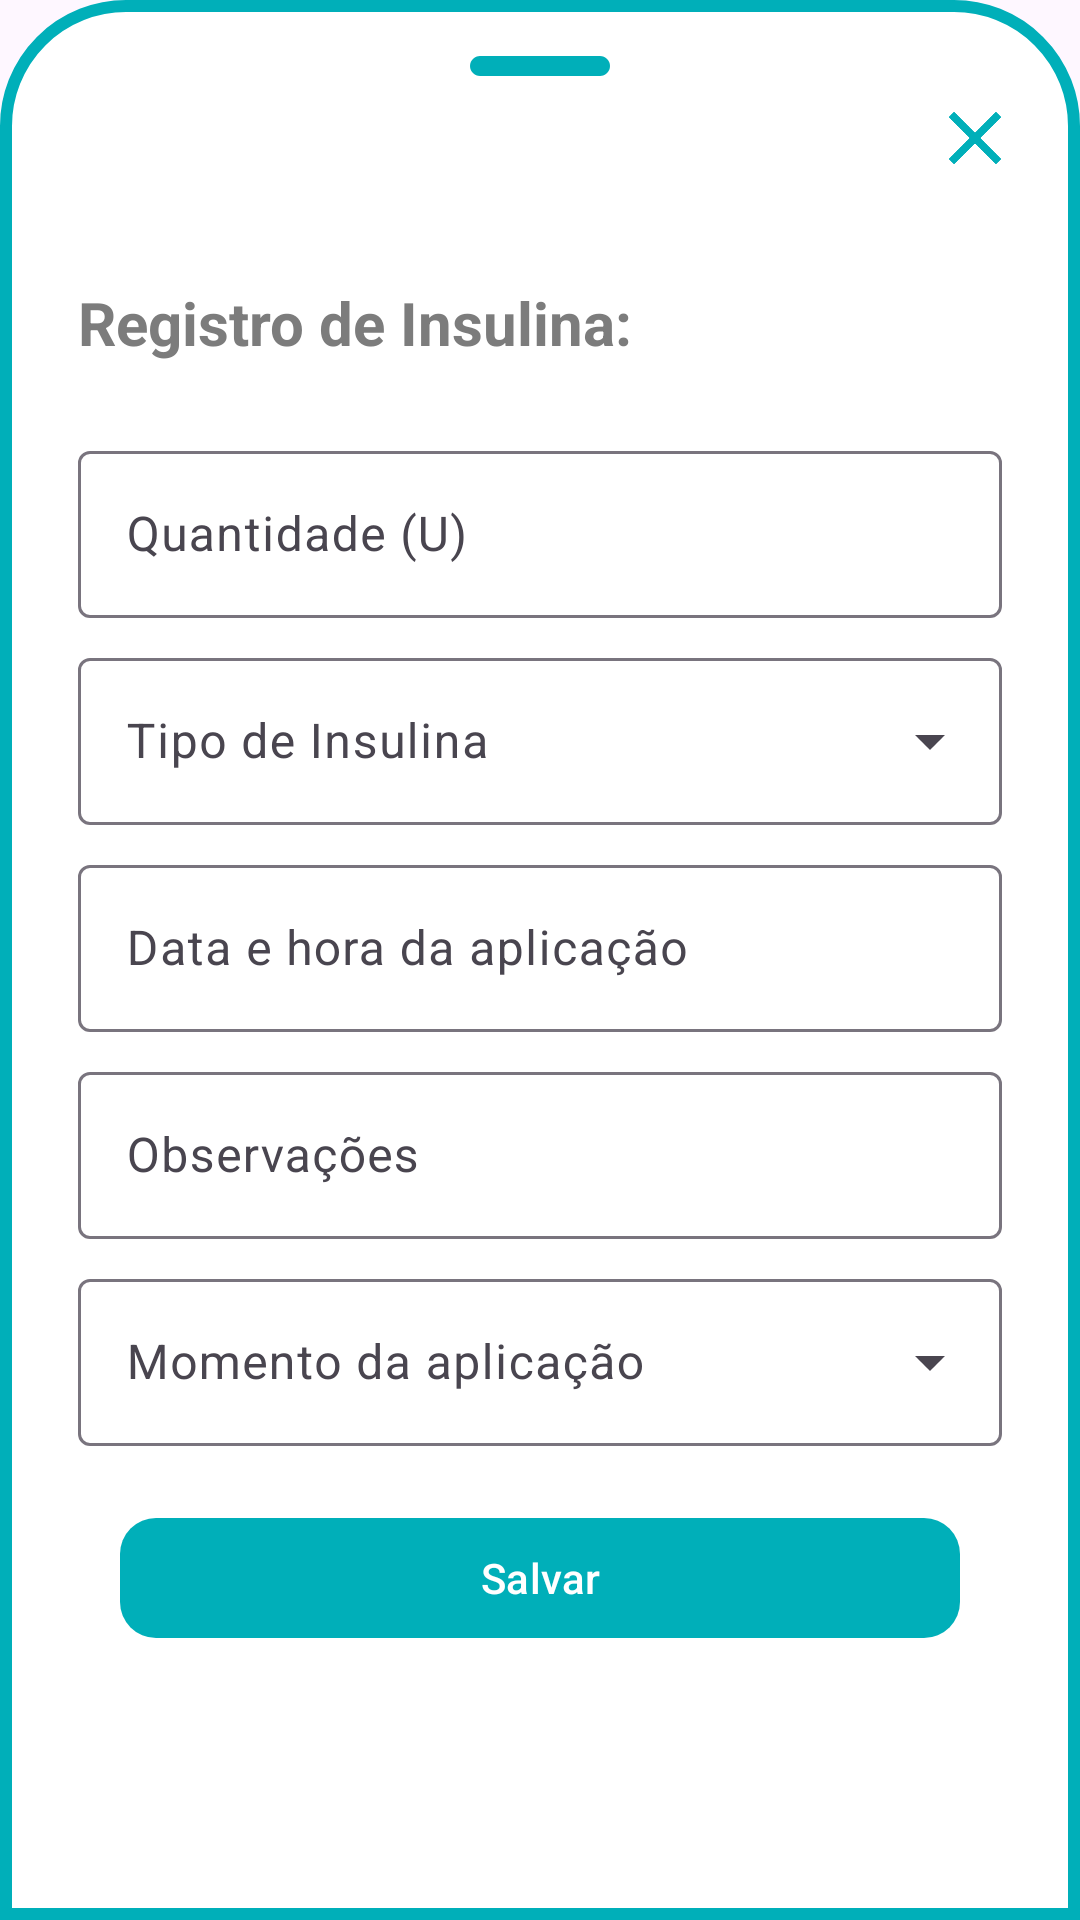

Locate icon controls on the screen. Image size 1080x1920, boxes as [x1=x1, y1=y1, x2=x2, y2=y2].
close: [x1=949, y1=112, x2=1001, y2=164]
